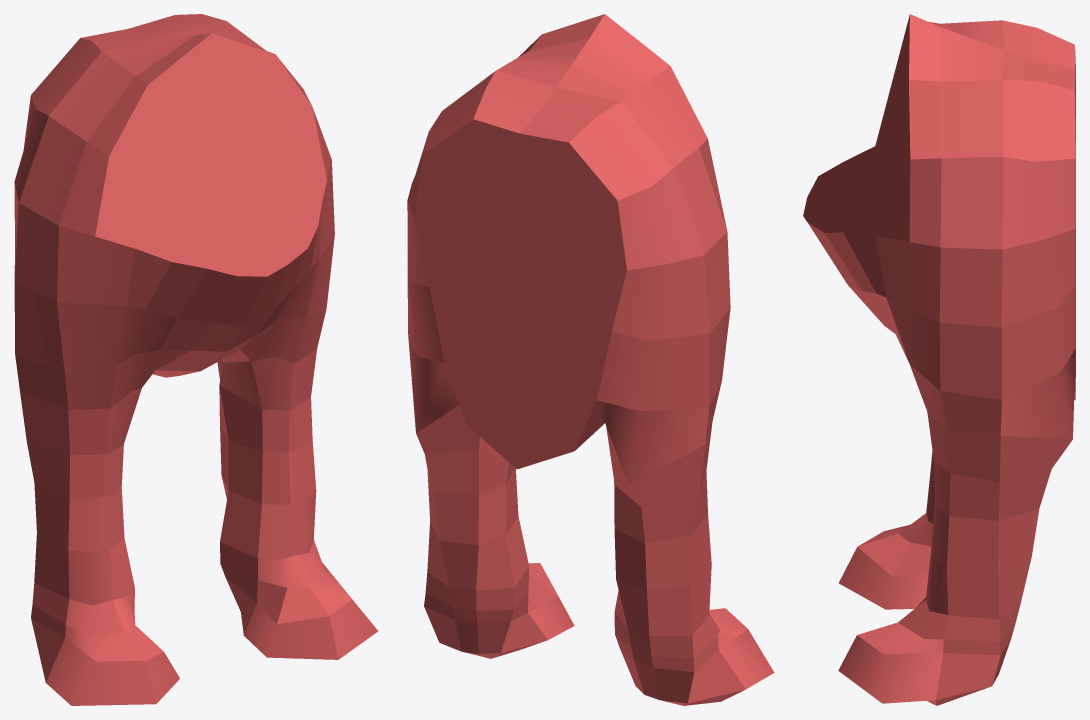
File: TWB03.fbx
3 views of the same model, side by side, from view 1: azimuth 30°, elevation 25°; view 2: azimuth 150°, elevation 25°; view 3: azimuth 270°, elevation 25° (orthographic). The views are drawn at different scales.
Parts seen in each view (by area): view 1: polySurface10; view 2: polySurface10; view 3: polySurface10.
Boxes of the visible parts, x1,y1,x2,y2 form: polySurface10: (14,14,377,705); polySurface10: (407,14,774,705); polySurface10: (803,14,1075,705).
Size of the model in its own units: 5.12 by 10.19 by 4.
